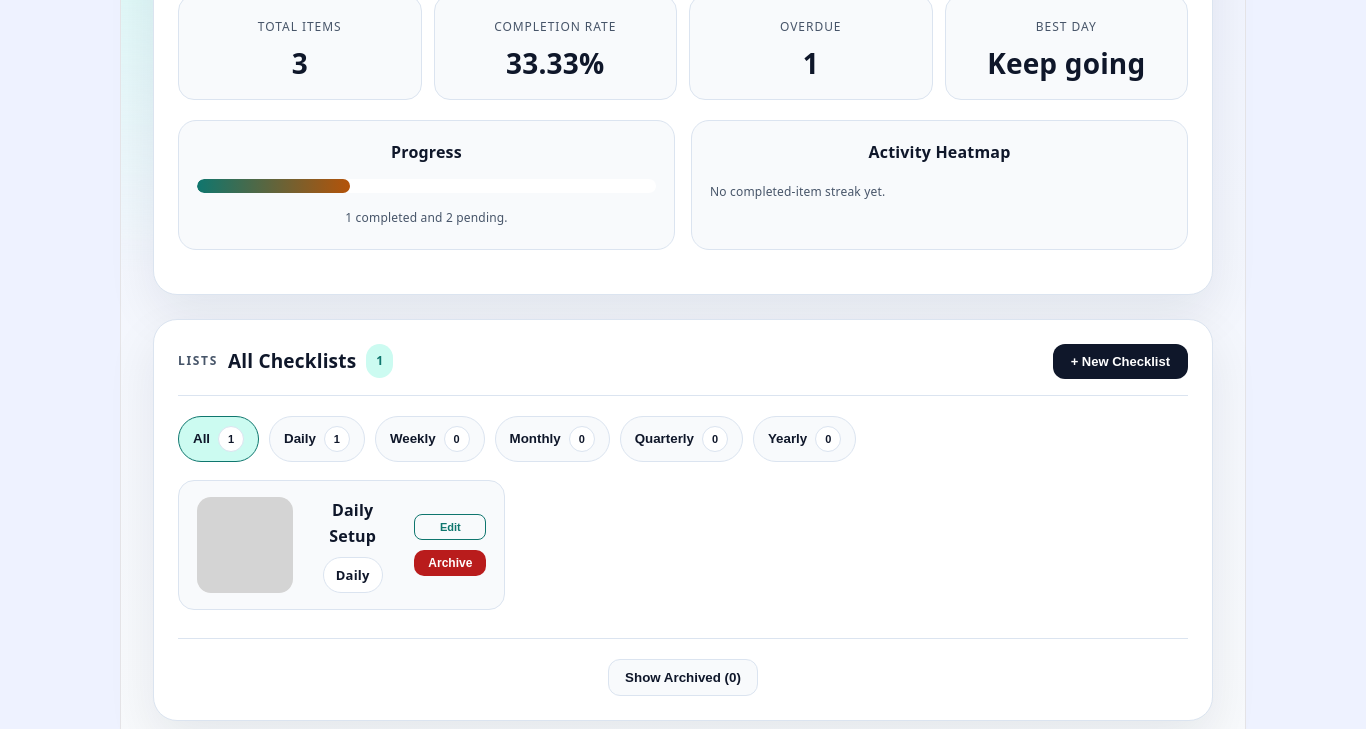
Test: Dashboard › shows checklist update errors
The width and height of the screenshot is (1366, 729).
(page scrolled)
Expected: the text "Daily Setup" is shown, [329,499,376,547]
Click the button "Edit" at (450, 527), box [414,514,486,540]
(page scrolled)
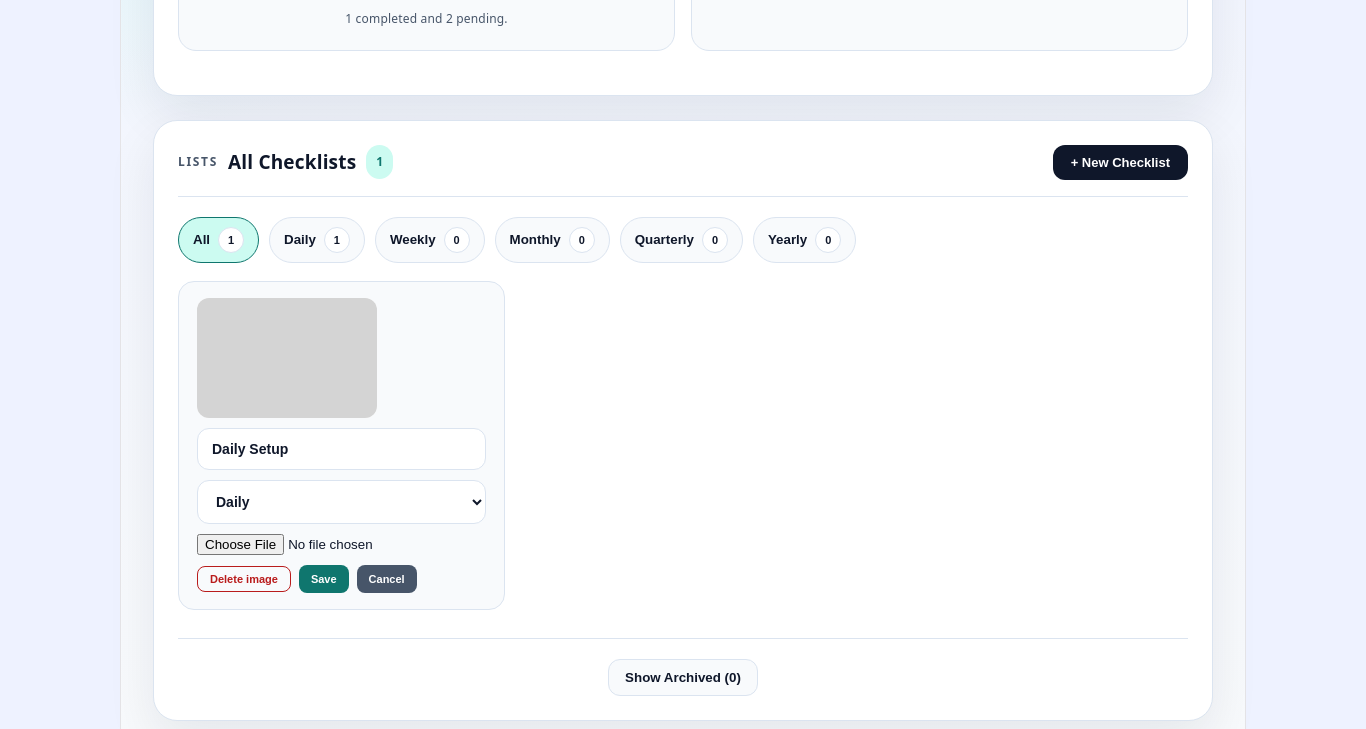
Click the button "Save" at (324, 579), box [299,565,349,593]
(page scrolled)
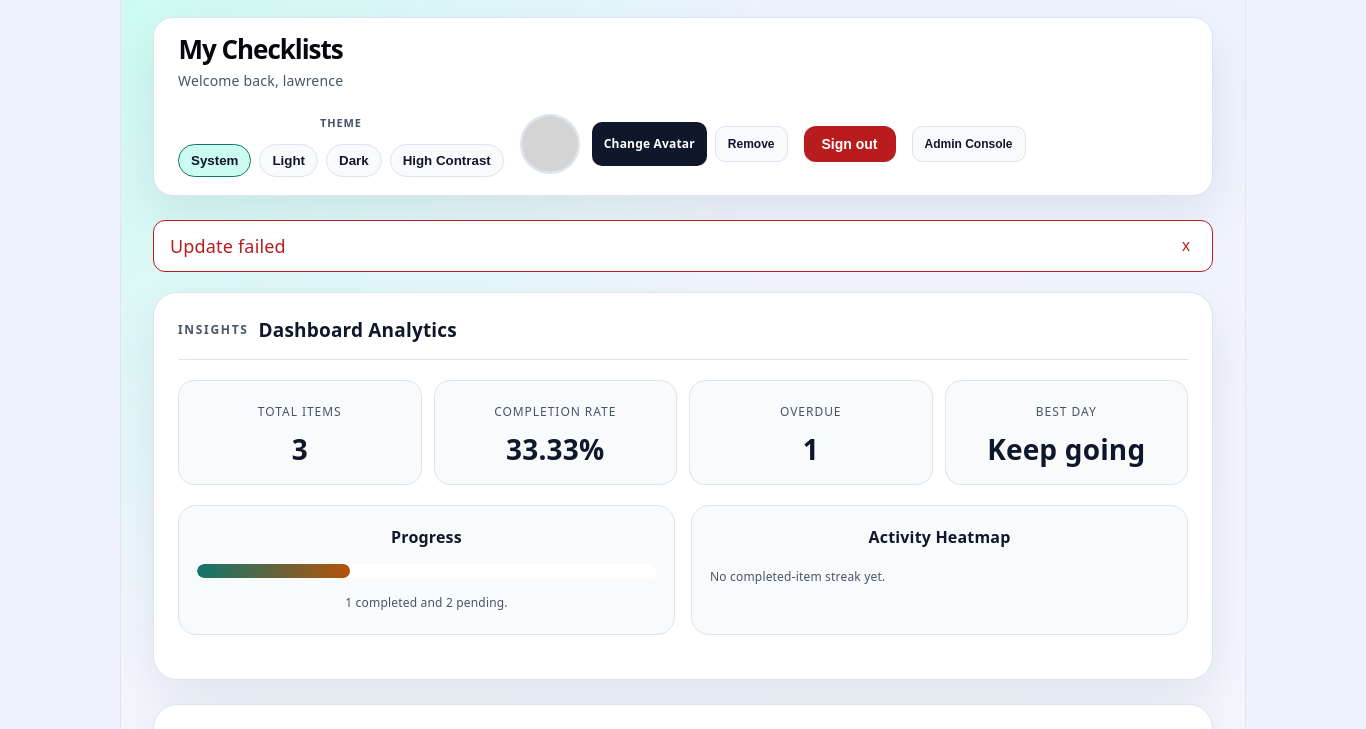
Result: the text "Update failed" is shown at [170,234,286,258]
